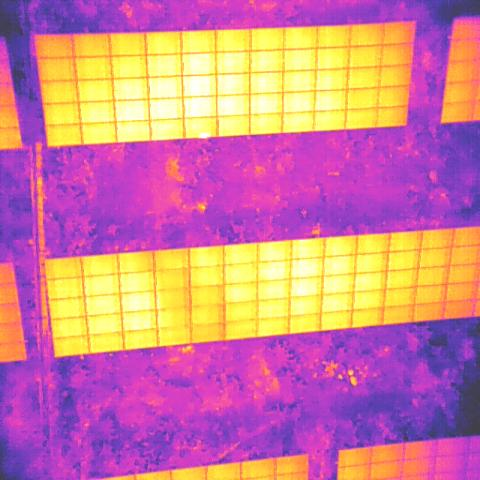fault: (198, 131, 211, 139)
